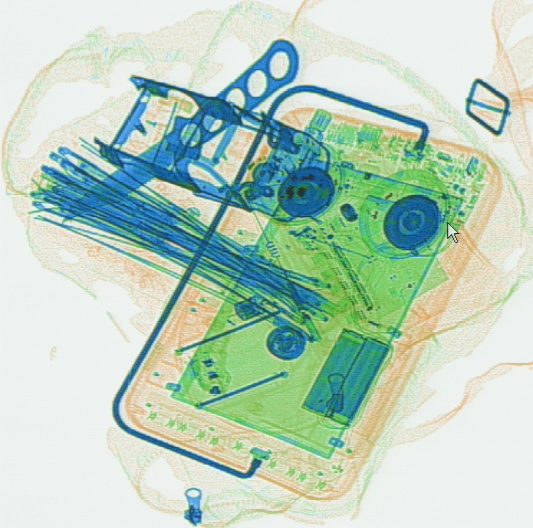knife: (60, 33, 299, 222)
